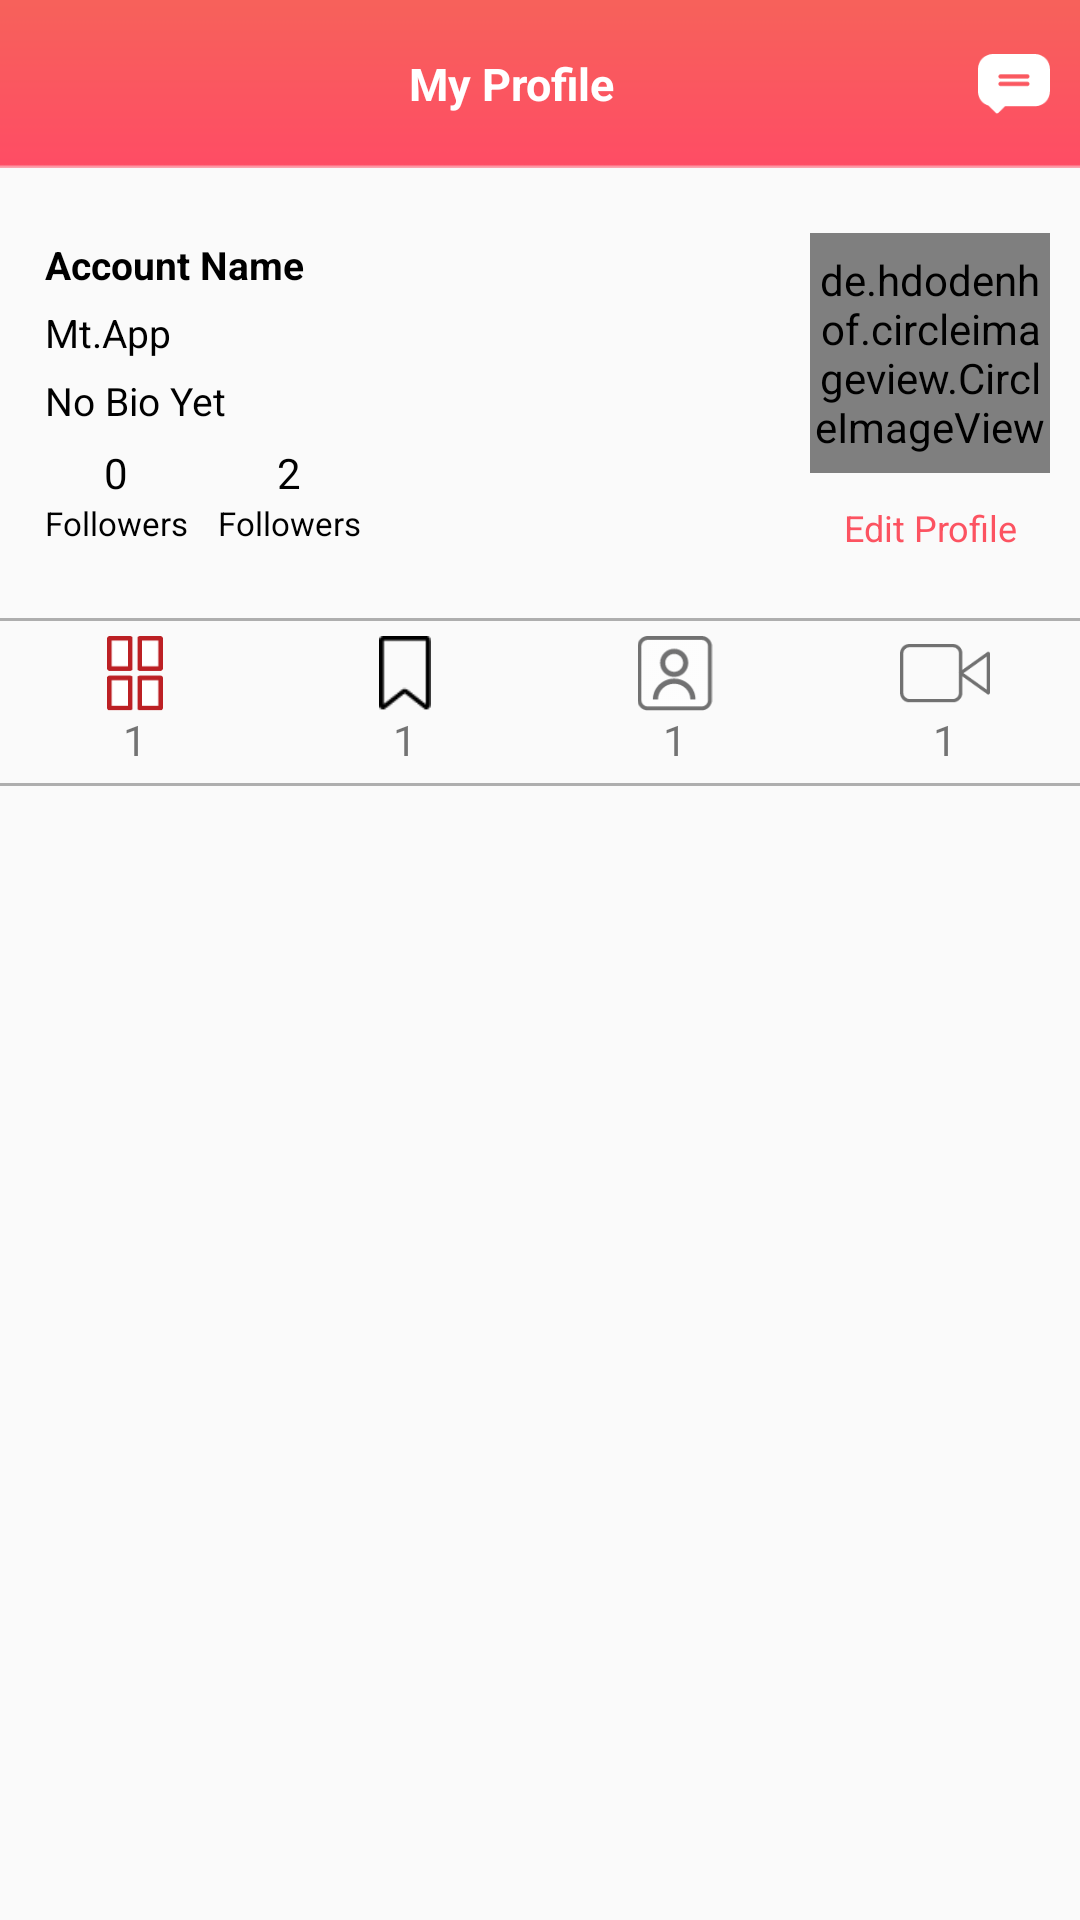

Where icons sit on this 1080px x 1920px app screen, as (x1, y1, x2, y2):
account: (638, 636, 713, 711)
bookmark: (379, 636, 431, 710)
dashboard: (107, 636, 163, 711)
message: (978, 54, 1050, 114)
video: (900, 644, 990, 703)
